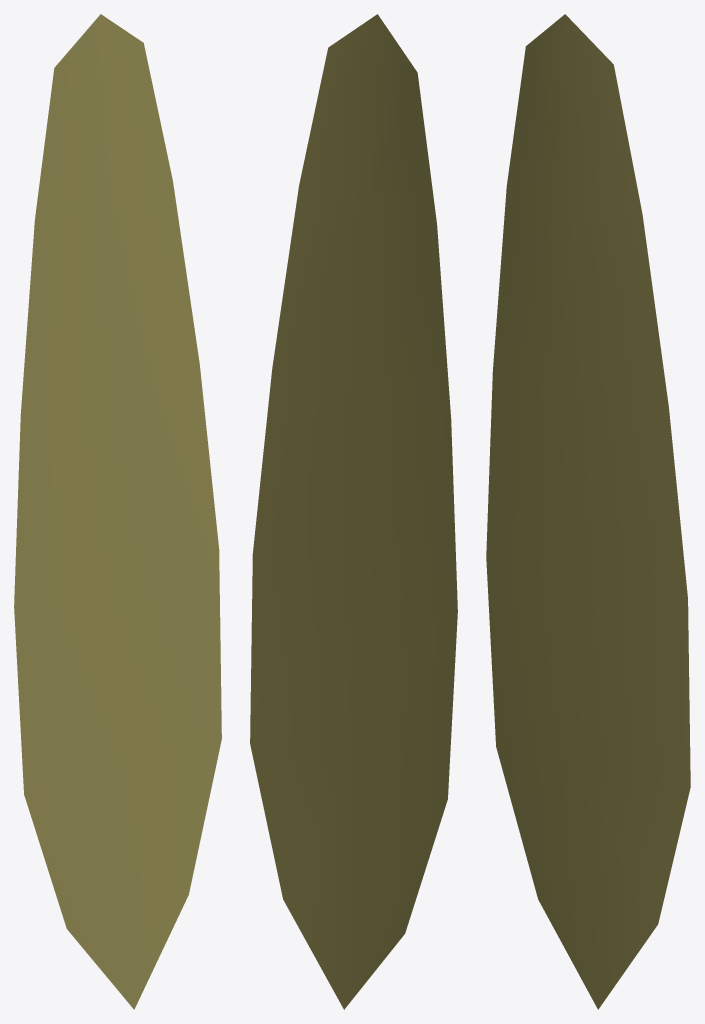
The model's file is lovebird_feather_flight_primary_005.obj.
3 views of the same model, side by side, from view 1: azimuth 30°, elevation 25°; view 2: azimuth 150°, elevation 25°; view 3: azimuth 330°, elevation 25° (orthographic).
Visible parts, largest first — view 1: feather_flight_primary_005; view 2: feather_flight_primary_005; view 3: feather_flight_primary_005.
Part boxes in pixels (x1=…): feather_flight_primary_005: x1=14, y1=14, x2=221, y2=1009; feather_flight_primary_005: x1=250, y1=14, x2=457, y2=1009; feather_flight_primary_005: x1=486, y1=14, x2=690, y2=1009.
Bounding box in the file's own units: 0.00595 × 0.0275 × 0.00016.
